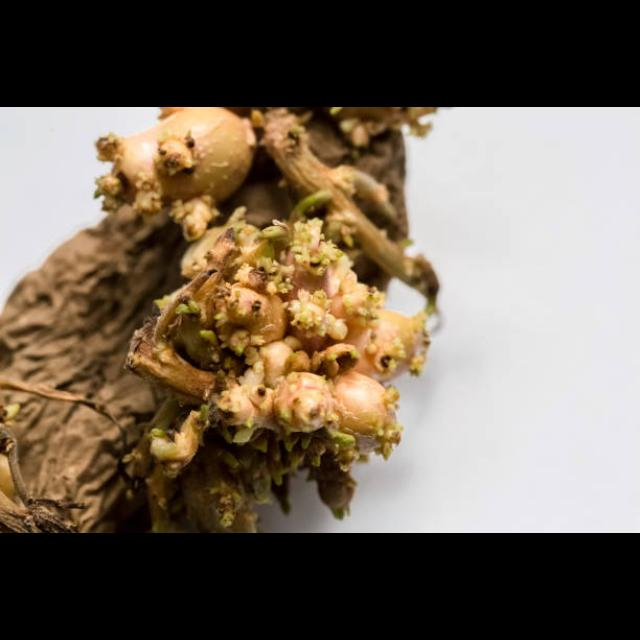Sprouted potato: (0, 107, 438, 533)
